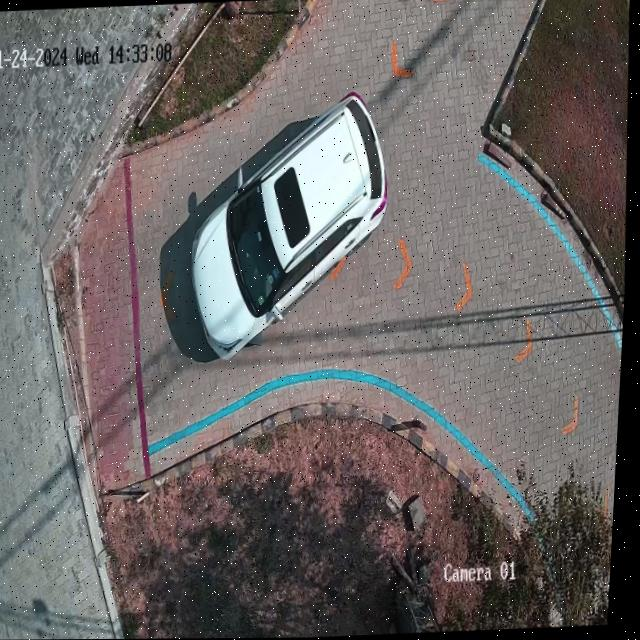car: (196, 94, 389, 359)
